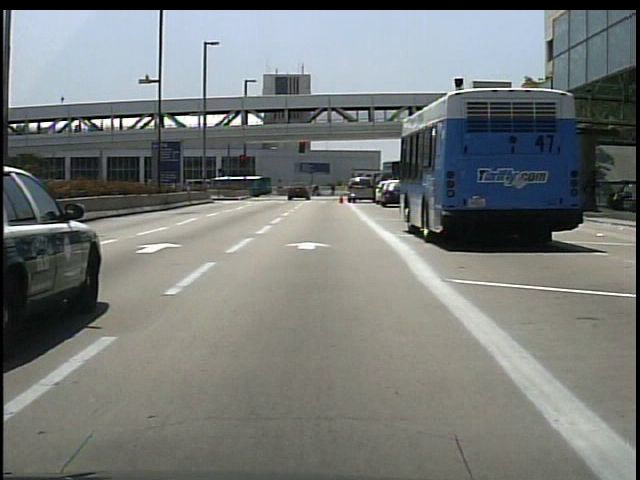person: (608, 180, 632, 211), (313, 183, 323, 197), (330, 182, 339, 197)
